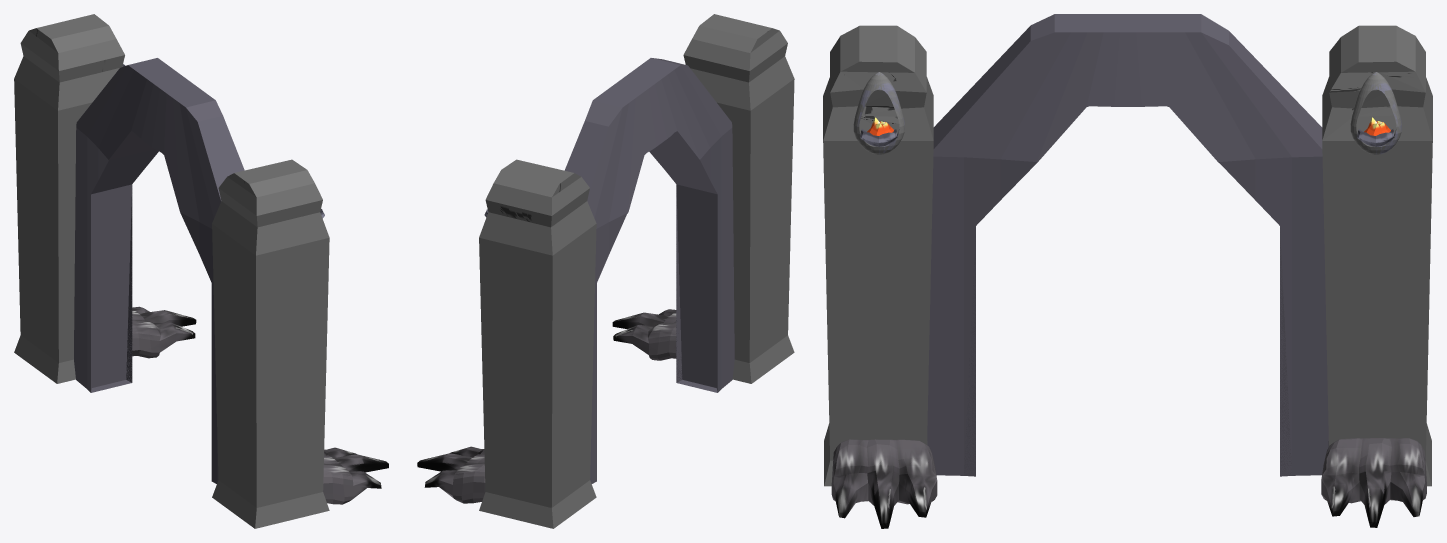
File: door.fbx
The picture shows the model from 3 angles, left to right: view 1: azimuth 30°, elevation 25°; view 2: azimuth 150°, elevation 25°; view 3: azimuth 270°, elevation 25°; orthographic projection. The views are drawn at different scales.
Parts seen in each view (by area): view 1: Cube.002, Cube, Cube.006, Cube.003; view 2: Cube.002, Cube, Cube.003, Cube.006; view 3: Cube.002, Cube, Cube.003, Cube.006, Sphere.001, Sphere.
Boxes of the visible parts, x1,y1,x2,y2 form: Cube.002: [14, 14, 329, 528]; Cube: [74, 58, 244, 483]; Cube.006: [323, 447, 388, 504]; Cube.003: [132, 306, 196, 358]; Cube.002: [479, 14, 794, 528]; Cube: [564, 58, 734, 483]; Cube.003: [417, 446, 485, 503]; Cube.006: [612, 309, 676, 360]; Cube.002: [823, 25, 1432, 486]; Cube: [927, 14, 1328, 476]; Cube.003: [1321, 438, 1426, 527]; Cube.006: [831, 439, 937, 528]; Sphere.001: [853, 72, 904, 154]; Sphere: [1350, 72, 1401, 154].
Size of the model in its own units: 123 by 262 by 327.
